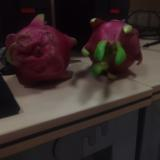pitaya: (10, 15, 77, 88), (82, 18, 142, 80)
